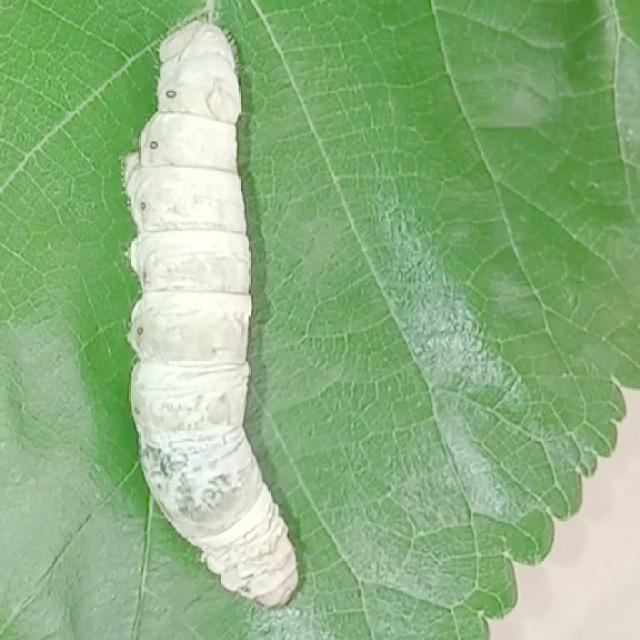Grasserie: (84, 0, 349, 631)
